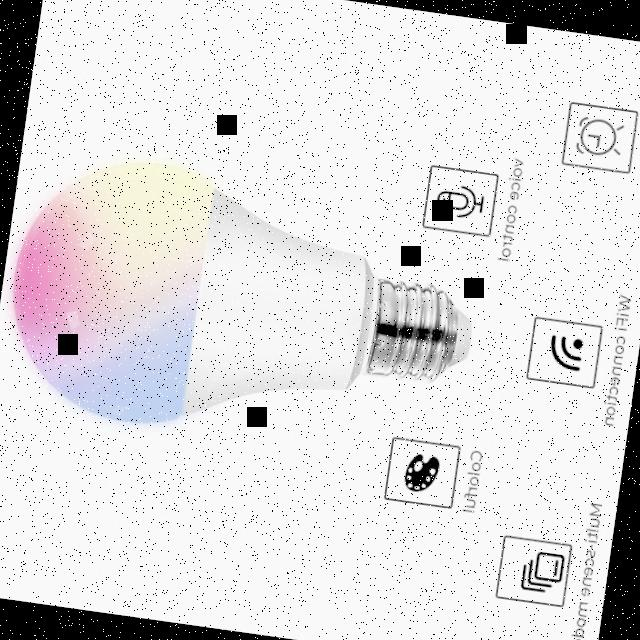light_bulb: (0, 136, 501, 474)
